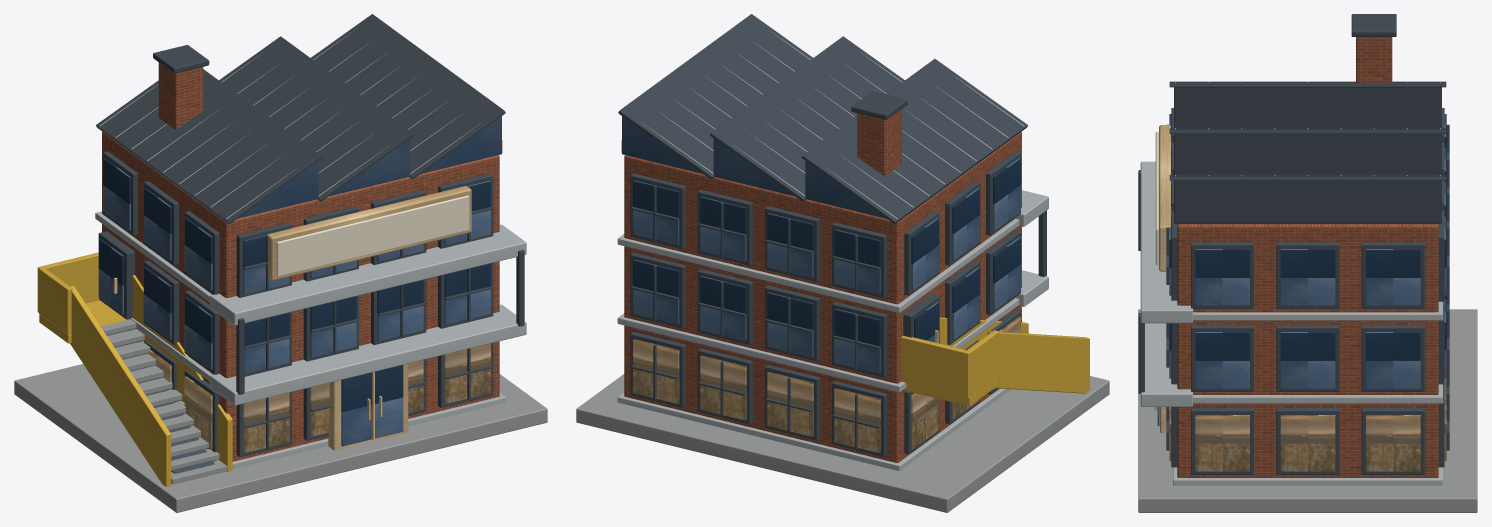
Rendered from level-3-web.glb.
3 renders of one model, left to right at view 1: azimuth 30°, elevation 25°; view 2: azimuth 150°, elevation 25°; view 3: azimuth 270°, elevation 25°, orthographic. The views are drawn at different scales.
Parts seen in each view (by area): view 1: body, roof, entrance, floors, foundation, sign; view 2: body, roof, foundation, entrance, floors; view 3: body, roof, foundation, floors, sign.
Part boxes in pixels (x1,y1,x2,y2): body: (102, 132, 499, 461); roof: (96, 14, 505, 224); entrance: (37, 231, 408, 486); floors: (95, 211, 526, 468); foundation: (14, 364, 547, 512); sign: (267, 186, 471, 280); body: (624, 132, 1021, 462); roof: (618, 14, 1027, 224); foundation: (576, 374, 1109, 512); entrance: (901, 294, 1089, 406); floors: (617, 190, 1048, 471); body: (1166, 108, 1449, 477); roof: (1169, 14, 1446, 223); foundation: (1138, 309, 1477, 512); floors: (1138, 161, 1442, 485); sign: (1155, 125, 1171, 271).
Size of the model in its own units: 5.15 by 4.58 by 3.9.
10 materials, 4 textured.
